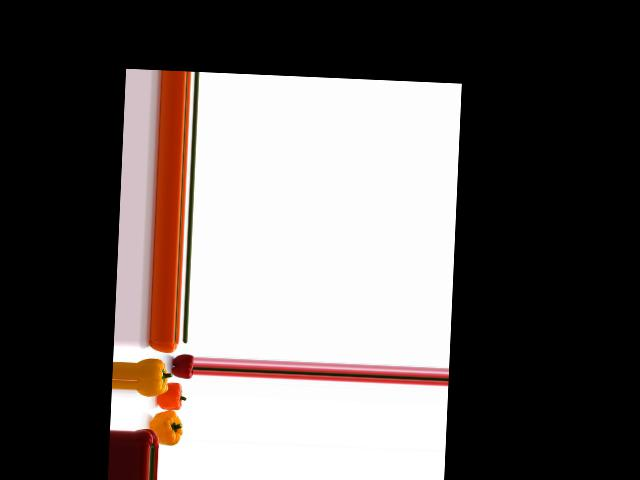bell_pepper: (148, 339, 180, 355)
